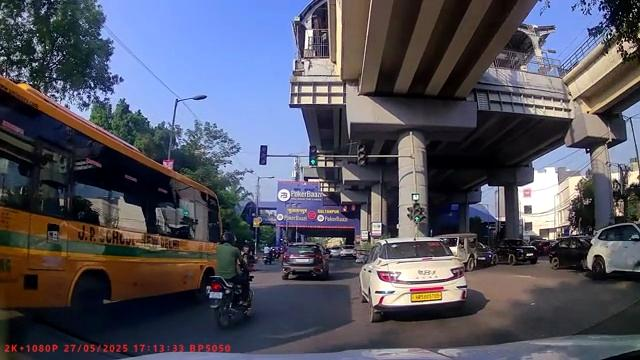motorcycle_with_helmet: (208, 229, 254, 332)
